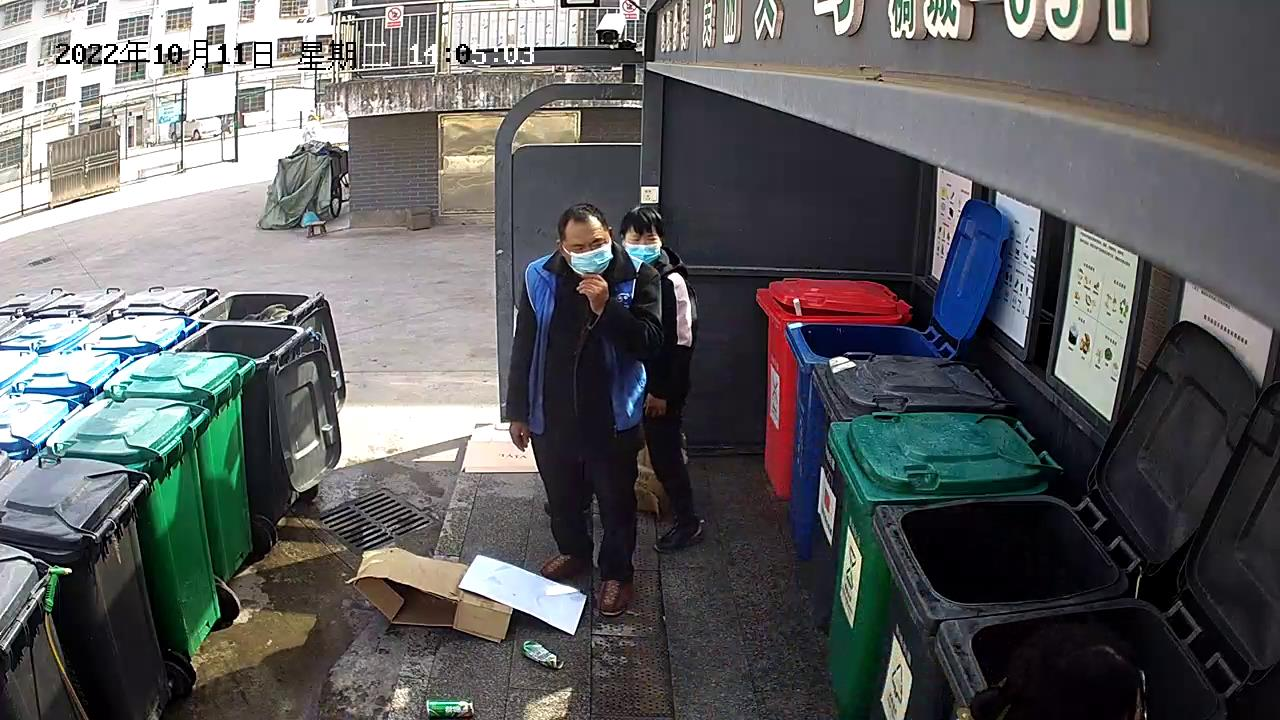lvzhipin: (519, 636, 566, 671), (423, 695, 477, 720)
person: (615, 199, 705, 553)
worker: (504, 199, 662, 616)
zhizhipin: (342, 546, 589, 644), (457, 437, 541, 475)
